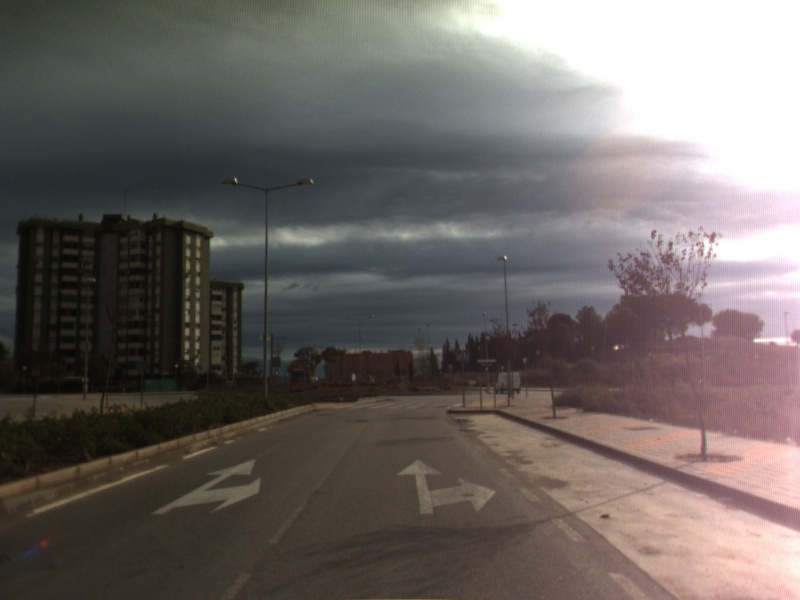STRAIGHT_RIGHT: (149, 457, 263, 517), (395, 457, 499, 516)
